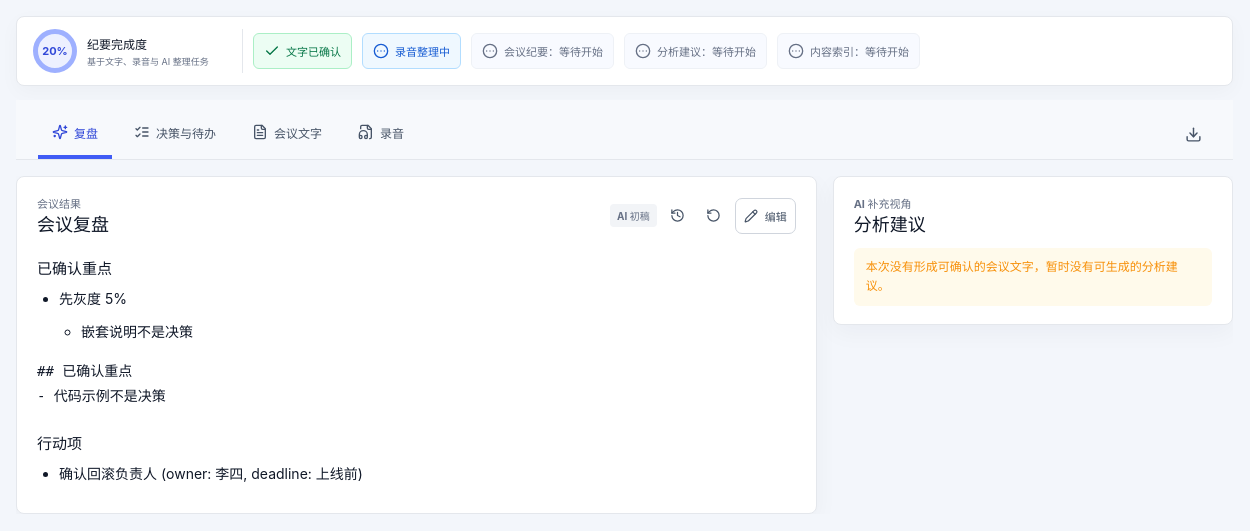
it: ReviewWorkspace › recovers real legacy headings without treating code or nested lists as decisions
Step 1. Click the tab "决策与待办" → (175, 133), box [120, 107, 230, 159]
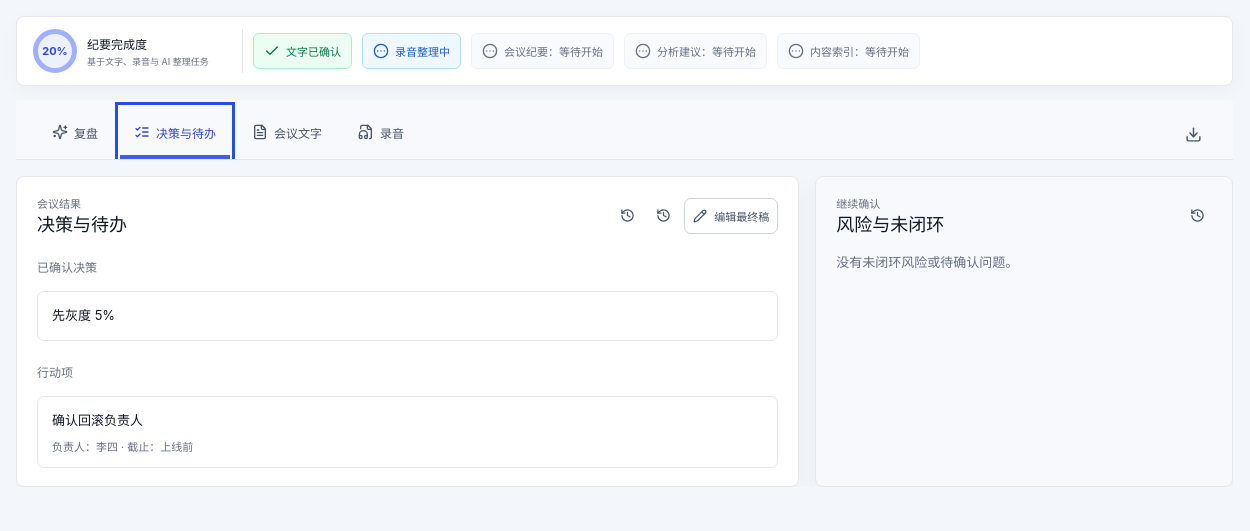
Expected: the text "先灰度 5%" is shown, [52, 307, 115, 323]
Expected: the list item "嵌套说明不是决策" is gone
Expected: the text "代码示例不是决策" is gone
